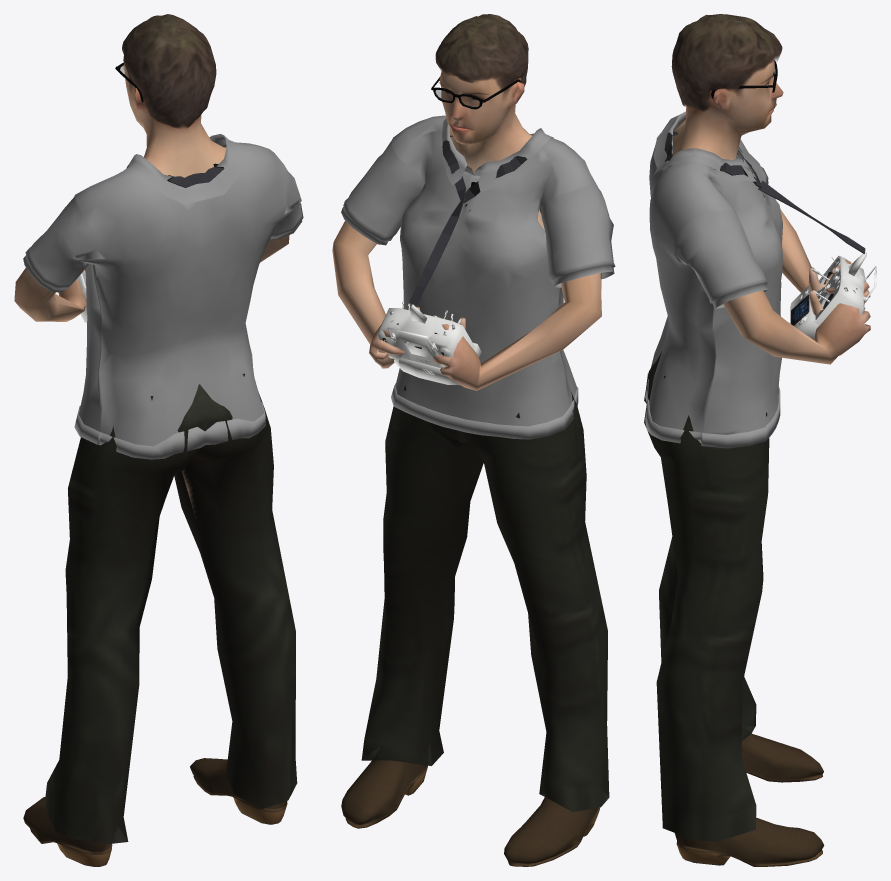
File: pilot_polo_pilot.glb
3 renders of one model, left to right at view 1: azimuth 30°, elevation 25°; view 2: azimuth 150°, elevation 25°; view 3: azimuth 270°, elevation 25°, orthographic. The views are drawn at different scales.
Parts seen in each view (by area): view 1: Human_atlas; view 2: Human_atlas; view 3: Human_atlas.
Part boxes in pixels (<box>): Human_atlas: <box>14,14,303,866</box>; Human_atlas: <box>332,14,615,866</box>; Human_atlas: <box>644,14,876,866</box>.
Bounding box in the file's own units: 0.6131 × 1.72 × 0.4544.
Materials: 1 (1 with a texture image).
